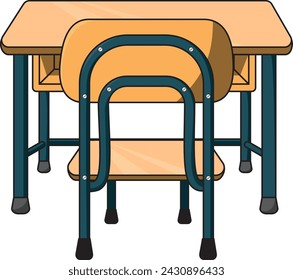m01: (1, 1, 293, 260)
